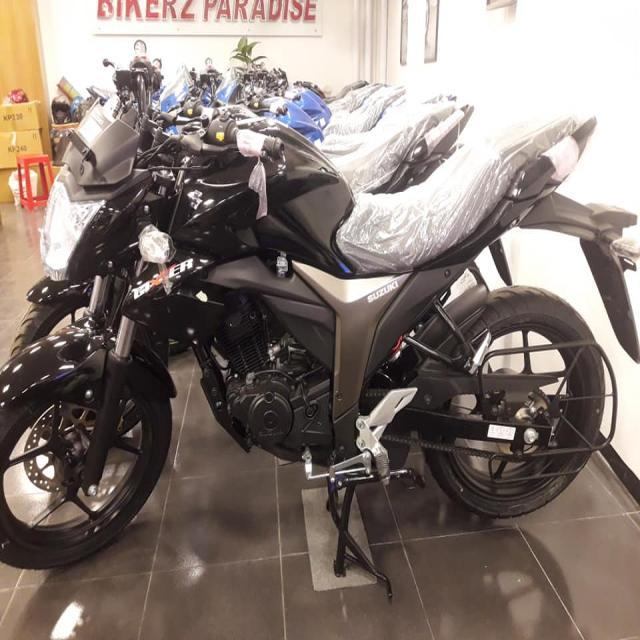Motorbike: (2, 74, 640, 587), (56, 78, 640, 432), (34, 52, 552, 364)
